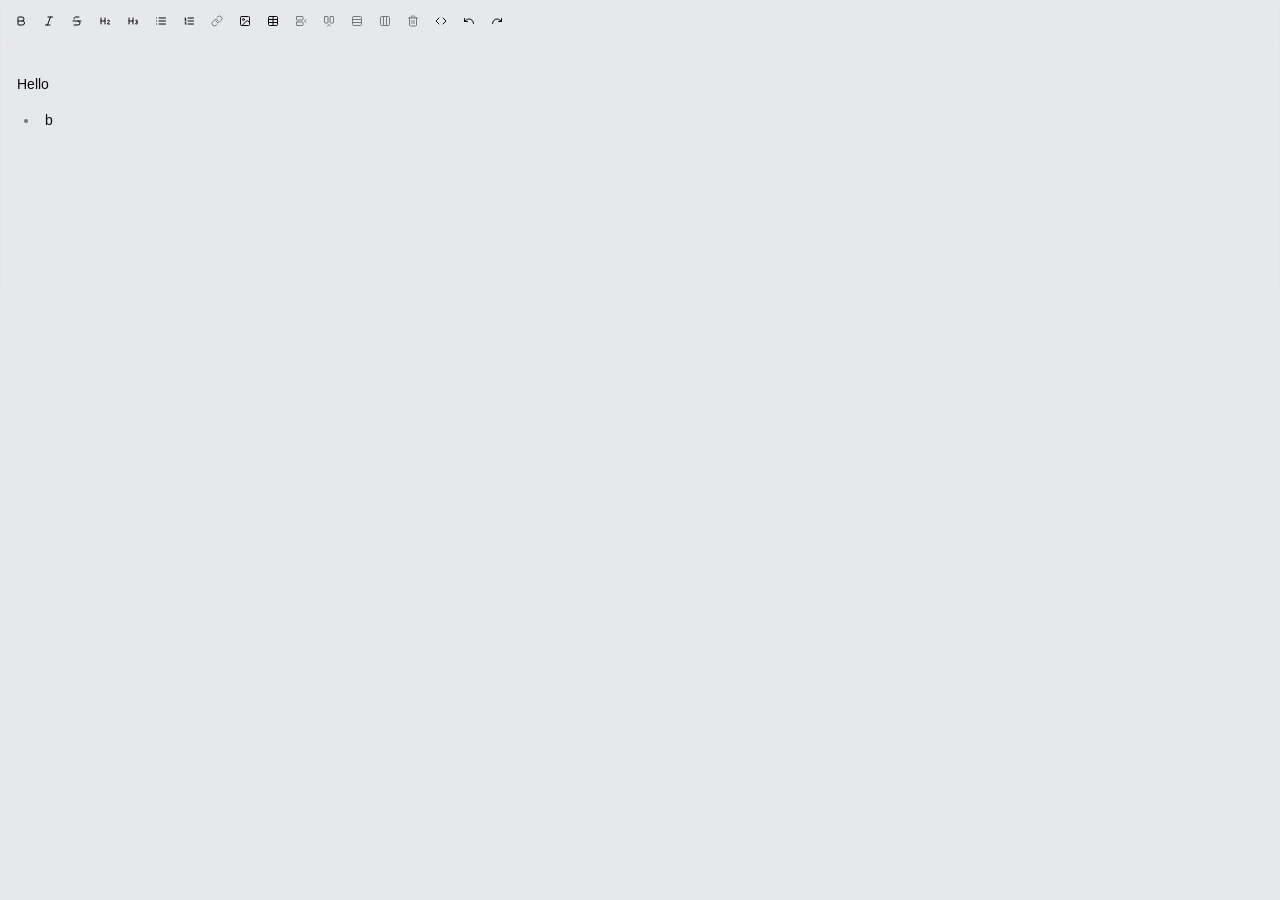
it: TextEditor HTML window › should open a window with the current HTML of the article from the toolbar
The width and height of the screenshot is (1280, 900).
Click the button named "HTML source" at (441, 21), box x1=429 y1=9 x2=453 y2=33
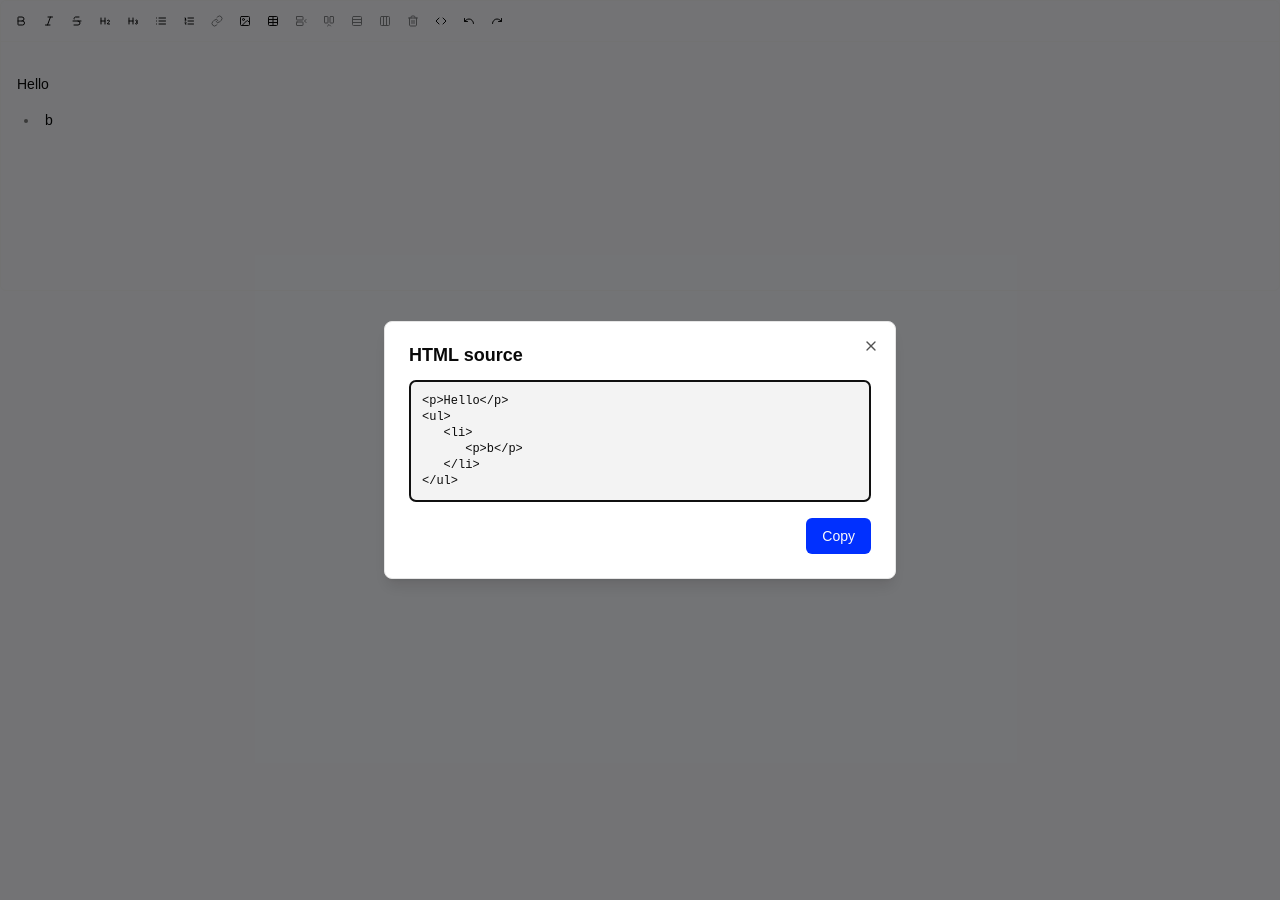
Result: the dialog "HTML source" is shown at x1=384 y1=321 x2=896 y2=579
Press Escape
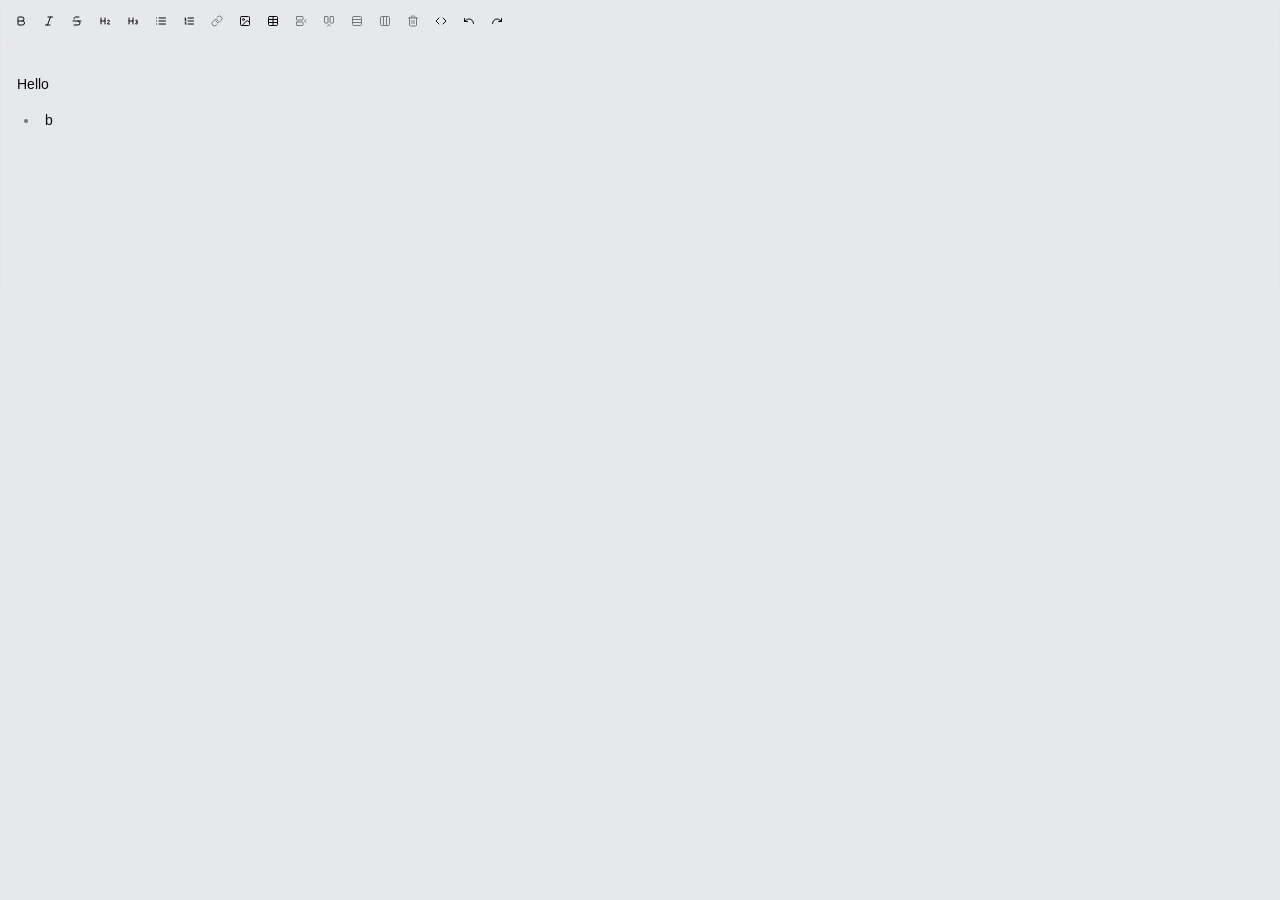
Result: the dialog is gone
